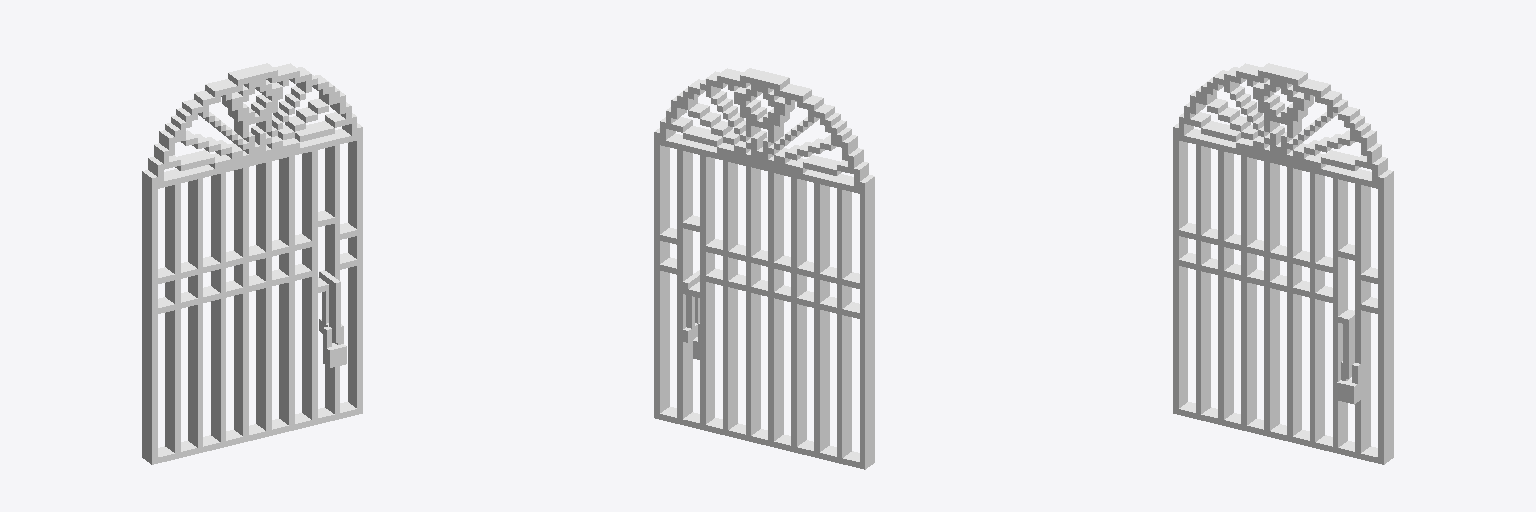
The model's file is door-2.obj.
The picture shows the model from 3 angles: view 1: azimuth 30°, elevation 25°; view 2: azimuth 150°, elevation 25°; view 3: azimuth 330°, elevation 25°; orthographic projection.
Parts seen in each view (by area): view 1: door-2; view 2: door-2; view 3: door-2.
Part boxes in pixels (x1,y1,x2,y2): door-2: (142,63,362,464); door-2: (654,68,874,469); door-2: (1173,63,1393,464).
Size of the model in its own units: 37 by 61 by 5.